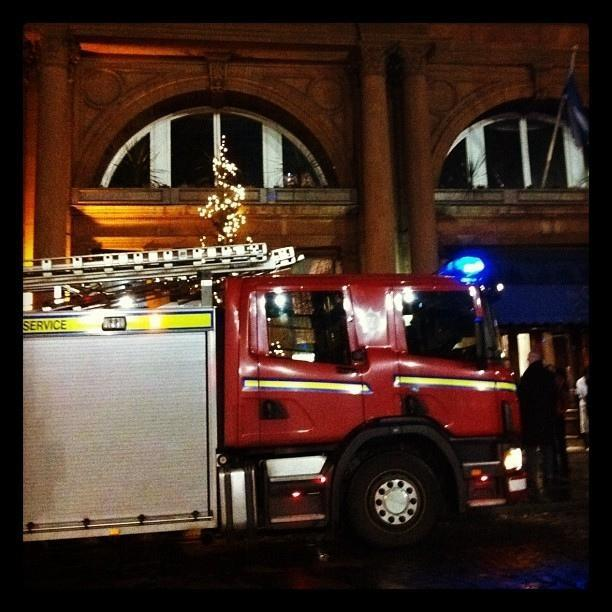truck: (0, 242, 529, 562)
